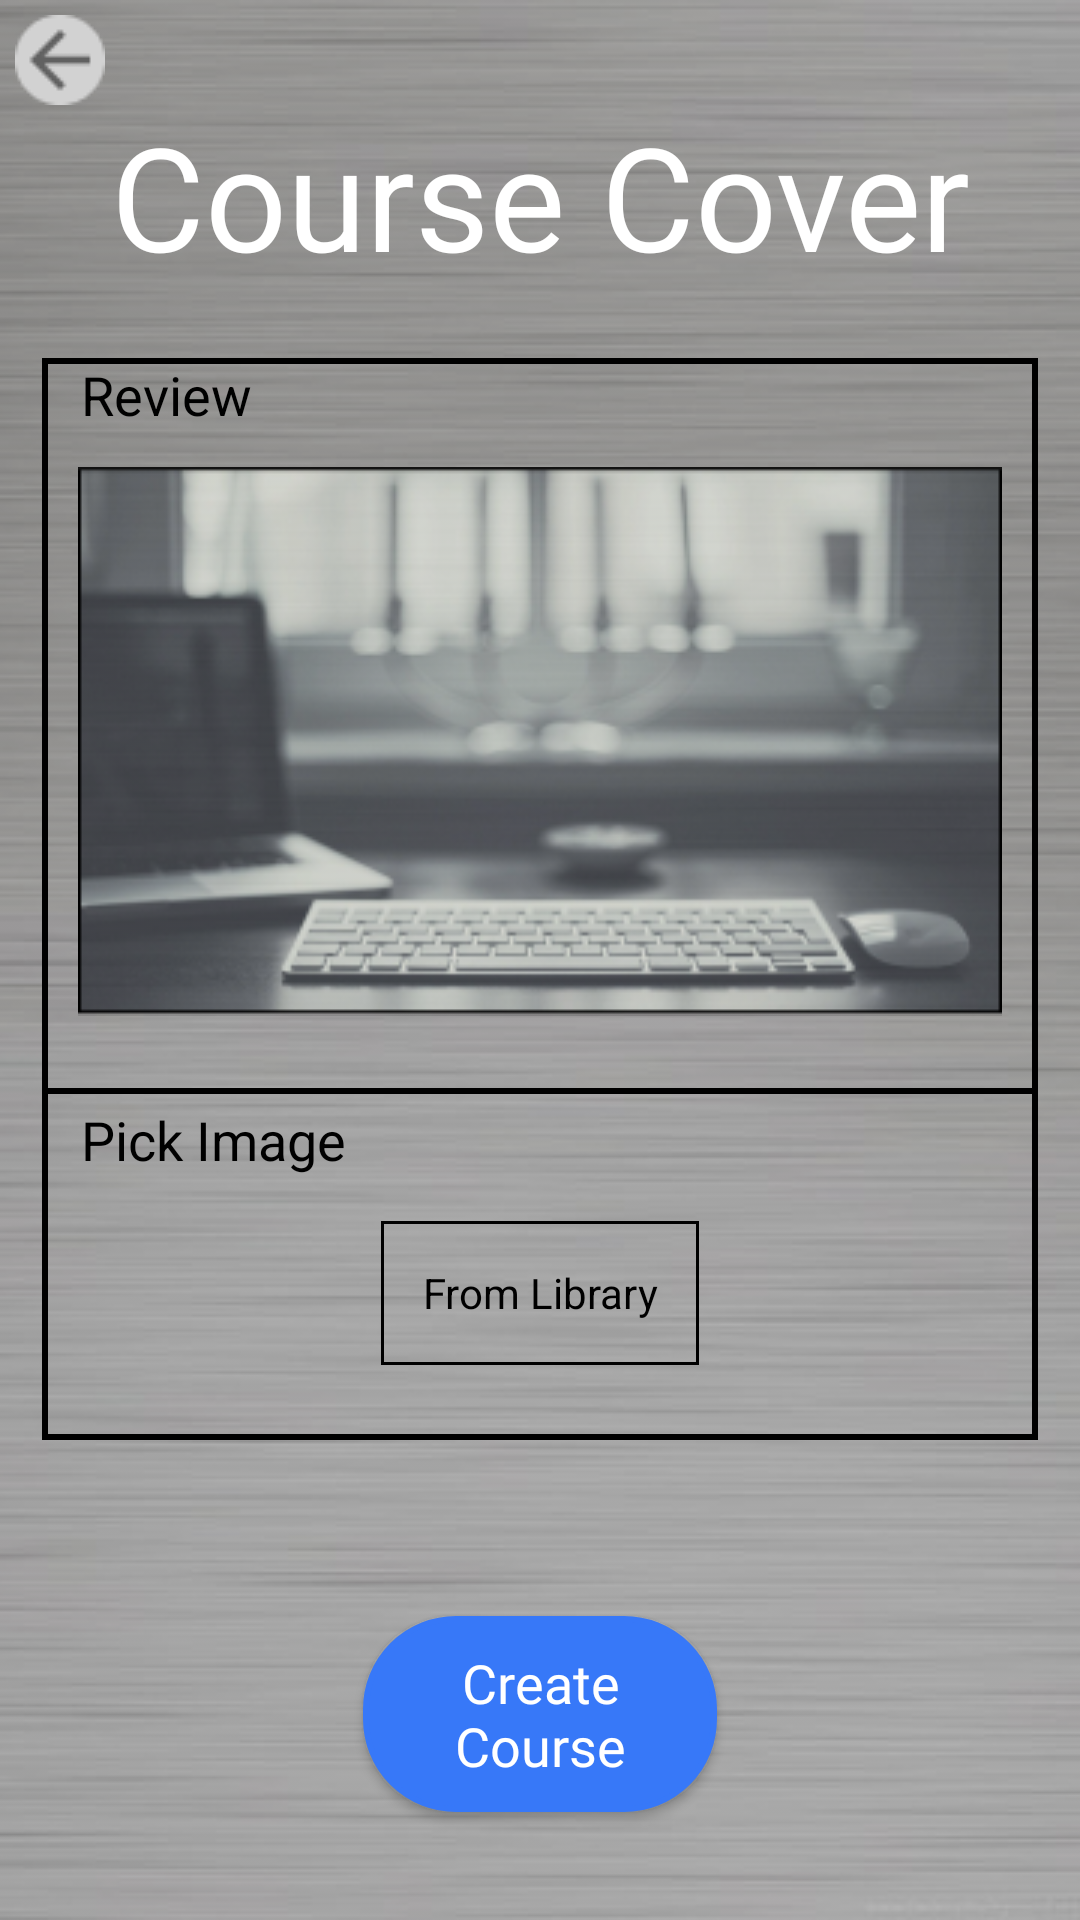

Screen size 1080w x 1920h. Icon name, then its box in pixels as (x1, y1, x2, y2):
back: (15, 15, 105, 105)
